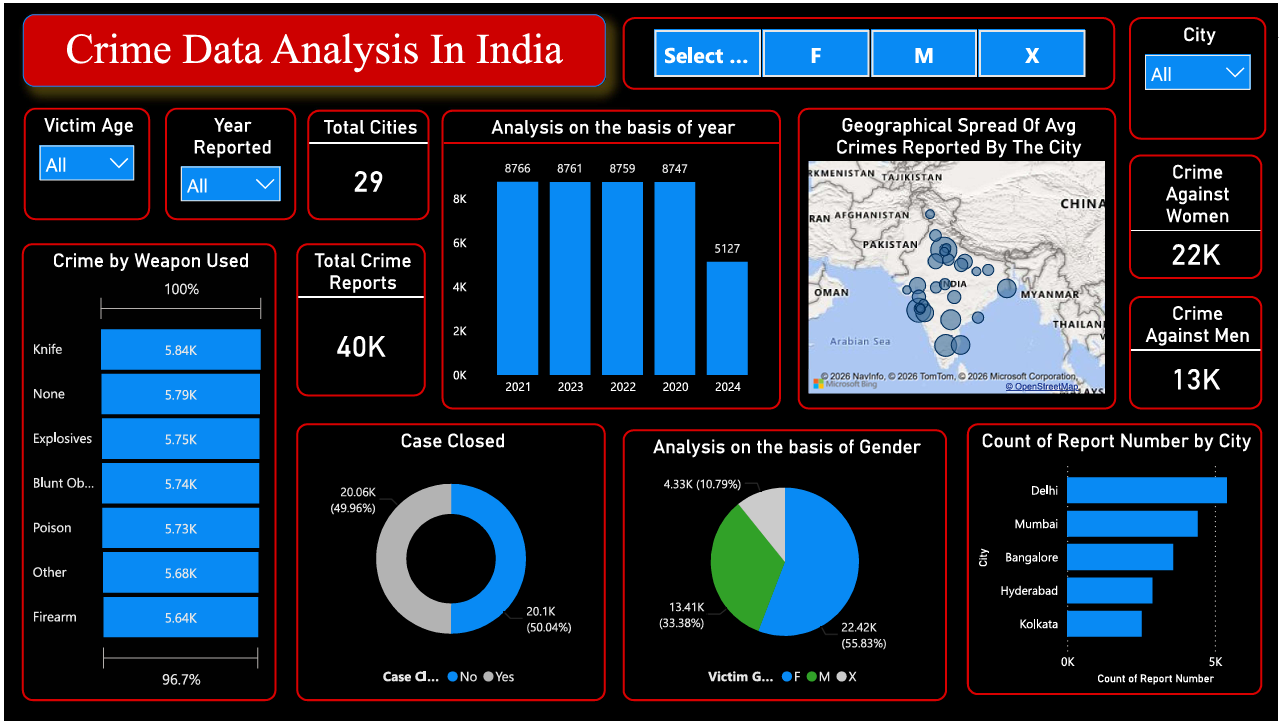

The dashboard page shown, as its layout file describes it:
{"tool":"powerbi","page":{"name":"Page 1","canvas":[1280,720],"ordinal":0},"visuals":[{"type":"card","title":"Total Crime Reports","fields":{"Values":["crime_dataset_india.Total Crime Reports"]},"box":[292.9,240,130,154.3],"z":0},{"type":"slicer","title":"City","fields":{"Values":["crime_dataset_india.City"]},"box":[1130,12.5,137.5,123.8],"z":1000},{"type":"donutChart","title":"Case Closed","fields":{"Category":["crime_dataset_india.Case Closed"],"Y":["CountNonNull(crime_dataset_india.City)"]},"box":[292.9,421.4,311.4,278.6],"z":2000},{"type":"pieChart","title":"Analysis on the basis of Gender","fields":{"Series":["crime_dataset_india.Victim Gender"],"Y":["CountNonNull(crime_dataset_india.Crime Description)"]},"box":[621.4,427.1,325.7,272.9],"z":3000},{"type":"funnel","title":"Crime by Weapon Used","fields":{"Category":["crime_dataset_india.Weapon Used"],"Y":["CountNonNull(crime_dataset_india.Crime Description)"]},"box":[17.1,240,255.7,460],"z":4000},{"type":"map","title":"Geographical Spread Of Avg Crimes Reported By The City","fields":{"Category":["crime_dataset_india.City"],"Size":["CountNonNull(crime_dataset_india.Report Number)"]},"box":[797.1,104.3,320,302.9],"z":5000},{"type":"card","title":"Total Cities","fields":{"Values":["crime_dataset_india.Total Cities"]},"box":[304.3,105.7,122.9,111.4],"z":6000},{"type":"clusteredBarChart","fields":{"Category":["crime_dataset_india.City"],"Y":["CountNonNull(crime_dataset_india.Report Number)"]},"box":[967.1,421.4,297.1,272.9],"z":7000},{"type":"slicer","fields":{"Values":["crime_dataset_india.Victim Gender"]},"box":[621.2,12.5,495,73.8],"z":8000},{"type":"slicer","title":"Year Reported","fields":{"Values":["crime_dataset_india.Year Reported"]},"box":[161.4,104.3,131.4,112.9],"z":9000},{"type":"slicer","title":"Victim Age","fields":{"Values":["crime_dataset_india.Victim Age"]},"box":[18.6,104.3,127.1,112.9],"z":10000},{"type":"card","title":"Crime Against Men","fields":{"Values":["crime_dataset_india.Crimes Against Men"]},"box":[1130,292.9,134.3,114.3],"z":11000},{"type":"card","title":"Crime Against Women","fields":{"Values":["crime_dataset_india.Crimes Against Women"]},"box":[1130,151.2,133.8,125],"z":12000},{"type":"columnChart","title":"Analysis on the basis of year","fields":{"Category":["crime_dataset_india.Year Reported"],"Y":["CountNonNull(crime_dataset_india.Crime Description)"]},"box":[438.6,105.7,341.4,301.4],"z":13000},{"type":"textbox","box":[17.5,10,586.2,72.5],"z":14000}]}

Visuals, with their boxes in screenshot pixels (x1, y1, x2, y2), scaled from the page's 1280x720 canvas onto the 1281x725 screenshot:
"Total Crime Reports" card: l=293, t=242, r=423, b=397
"City" slicer: l=1131, t=13, r=1268, b=137
"Case Closed" donutChart: l=293, t=424, r=605, b=705
"Analysis on the basis of Gender" pieChart: l=622, t=430, r=948, b=705
"Crime by Weapon Used" funnel: l=17, t=242, r=273, b=705
"Geographical Spread Of Avg Crimes Reported By The City" map: l=798, t=105, r=1118, b=410
"Total Cities" card: l=305, t=106, r=428, b=219
clusteredBarChart - crime_dataset_india.City x CountNonNull(crime_dataset_india.Report Number): l=968, t=424, r=1265, b=699
slicer - crime_dataset_india.Victim Gender: l=622, t=13, r=1117, b=87
"Year Reported" slicer: l=162, t=105, r=293, b=219
"Victim Age" slicer: l=19, t=105, r=146, b=219
"Crime Against Men" card: l=1131, t=295, r=1265, b=410
"Crime Against Women" card: l=1131, t=152, r=1265, b=278
"Analysis on the basis of year" columnChart: l=439, t=106, r=781, b=410
textbox: l=18, t=10, r=604, b=83
